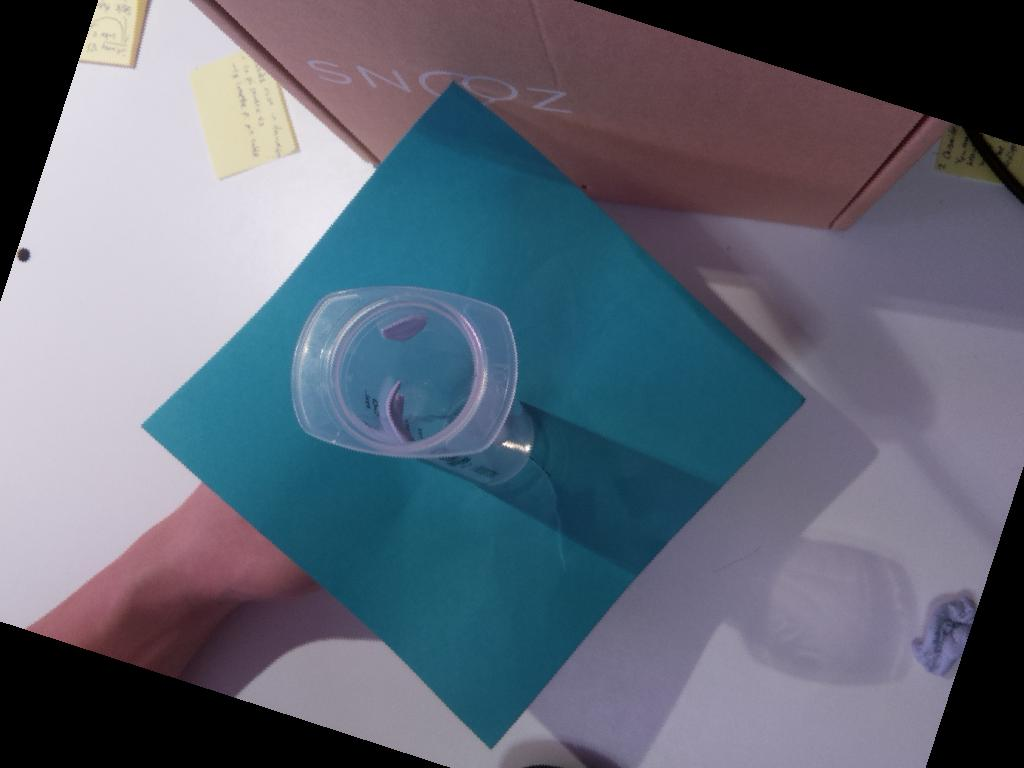dirty: (290, 286, 520, 459)
